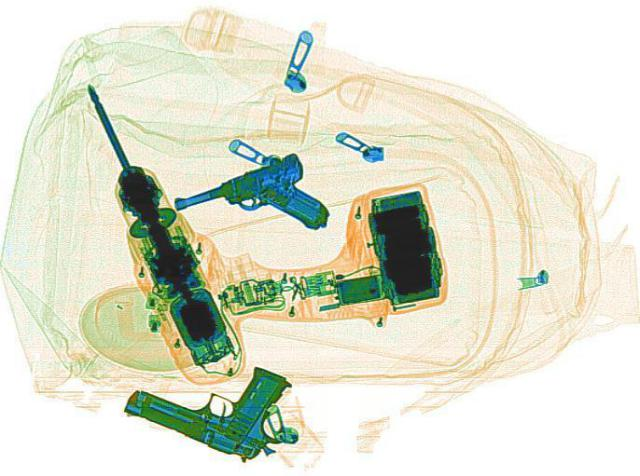Gun: (114, 334, 320, 463), (164, 149, 348, 265)
